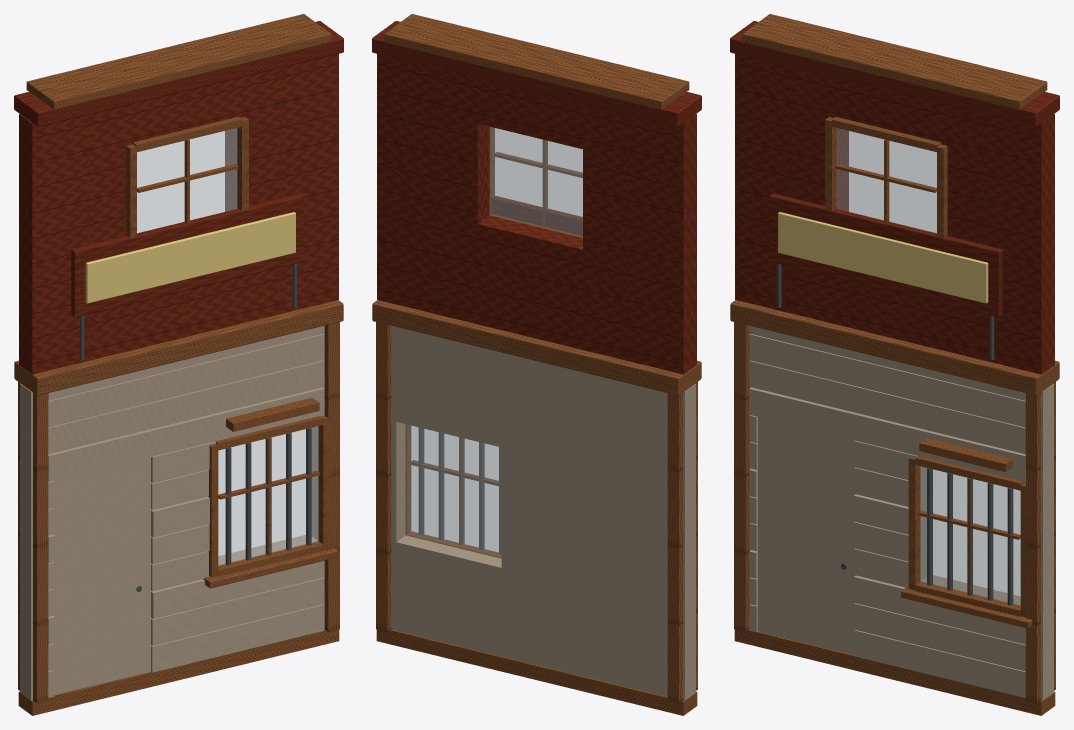
Rendered from wild-west-frontier-town-sheriff-office-facade-bay-f674159e__30123.glb.
3 views of the same model, side by side, from view 1: azimuth 30°, elevation 25°; view 2: azimuth 150°, elevation 25°; view 3: azimuth 330°, elevation 25° (orthographic).
Visible parts, largest first — view 1: sheriff-office-facade-bay; view 2: sheriff-office-facade-bay; view 3: sheriff-office-facade-bay.
Part boxes in pixels (<box>): sheriff-office-facade-bay: <box>14,14,343,715</box>; sheriff-office-facade-bay: <box>372,14,701,715</box>; sheriff-office-facade-bay: <box>730,14,1059,715</box>.
Size of the model in its own units: 3.2 by 6.14 by 0.5202.
6 materials, 3 textured.
